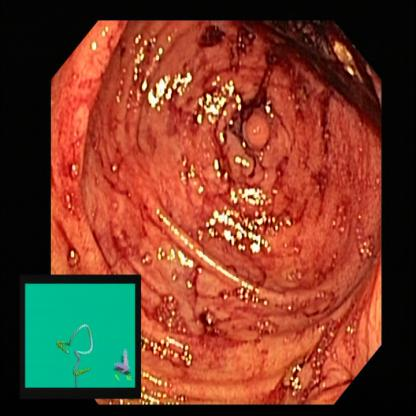Labels: (18, 273, 141, 397)
Polyps: (236, 99, 272, 165)
